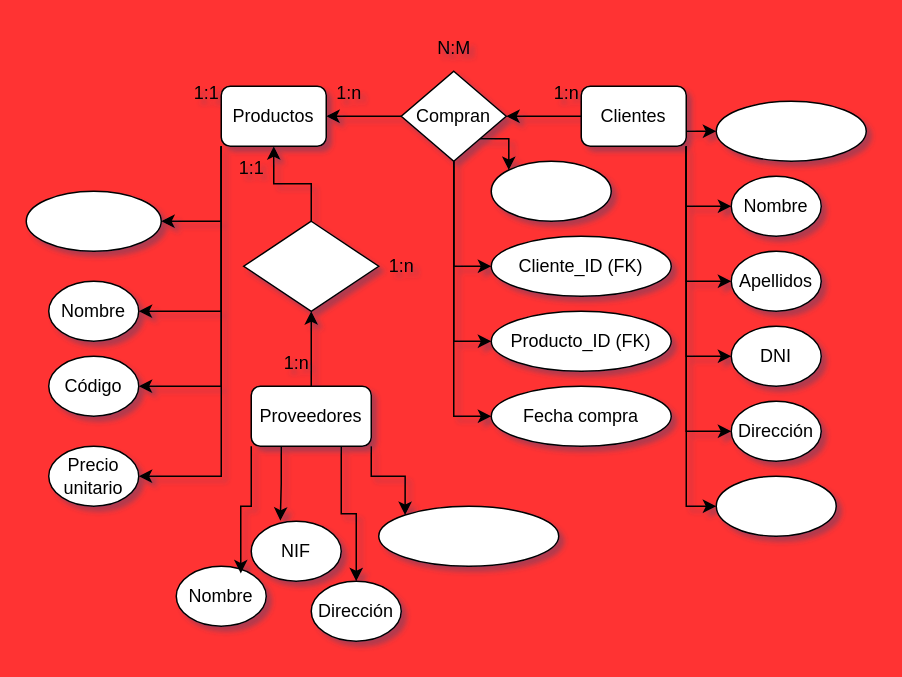
Image size: 902x677. Some labels were removed from this diagram. Here are the shapes that lost their labels. From the top down, the centre of each, then its label:
At point (790, 130): "(PK) Cliente_ID".
At point (550, 190): "Cantidad".
At point (93, 220): "(PK) Producto_ID".
At point (310, 265): "Suministran".
At point (775, 505): "Fecha nac.".
At point (468, 535): "(PK) Proveedor_ID".
